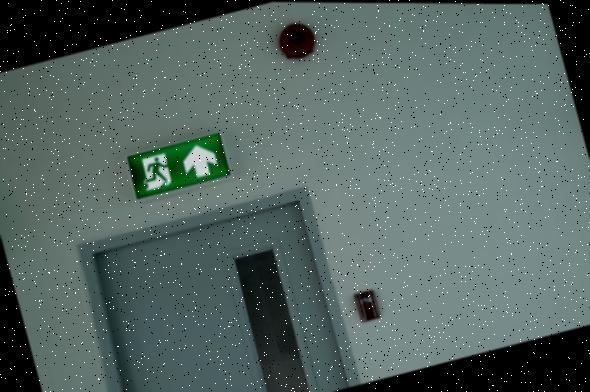emergency_exit: (127, 132, 231, 199)
